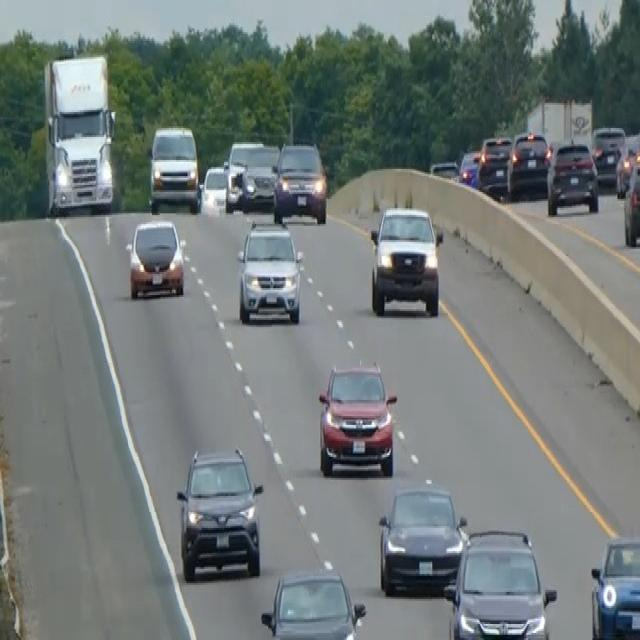car: (442, 526, 556, 638), (377, 484, 468, 596), (317, 359, 398, 478), (369, 202, 443, 316), (259, 566, 366, 638), (236, 217, 304, 325), (589, 534, 639, 638), (125, 217, 185, 299), (272, 139, 327, 224), (546, 137, 599, 215), (507, 130, 551, 199), (223, 137, 264, 210), (240, 144, 280, 210), (476, 134, 512, 198), (591, 123, 626, 185), (622, 155, 639, 247), (615, 135, 639, 197), (200, 164, 228, 214), (458, 148, 480, 186), (429, 158, 459, 182)
jeep: (175, 443, 264, 581)
lorry: (41, 51, 117, 217)
minivan: (146, 121, 201, 213)
